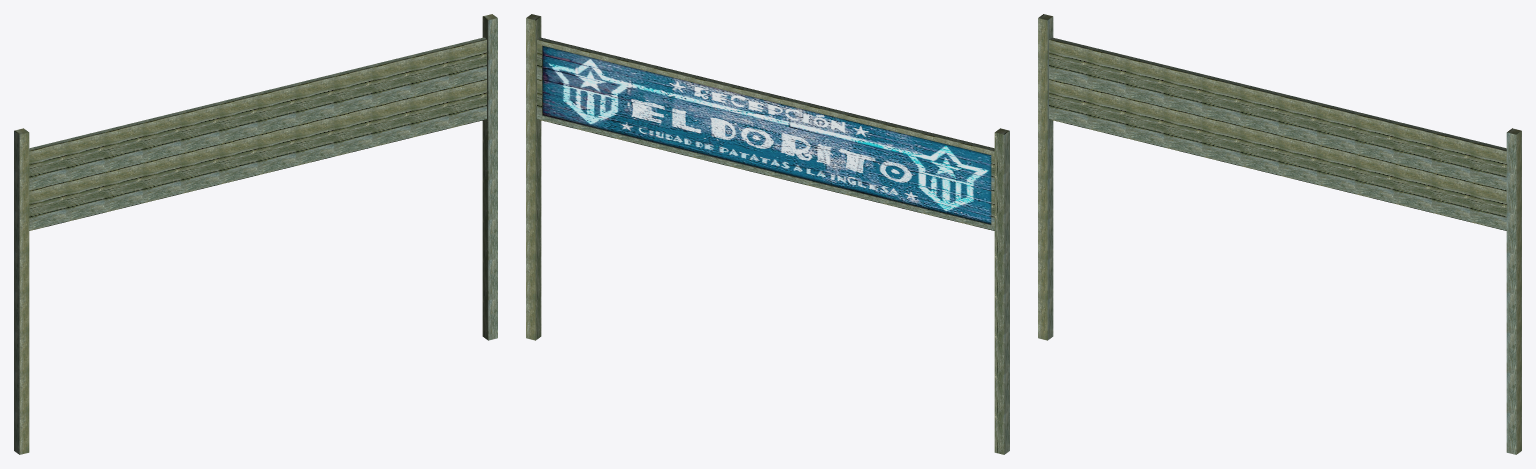
The model's file is bluesign1.fbx.
The picture shows the model from 3 angles, left to right: view 1: azimuth 30°, elevation 25°; view 2: azimuth 150°, elevation 25°; view 3: azimuth 330°, elevation 25°; orthographic projection.
Visible parts, largest first — view 1: bluesign1; view 2: bluesign1; view 3: bluesign1.
Boxes of the visible parts, x1,y1,x2,y2 form: bluesign1: (14, 14, 497, 454); bluesign1: (526, 14, 1009, 454); bluesign1: (1038, 14, 1521, 454).
Size of the model in its own units: 80000 by 51200 by 1600.
